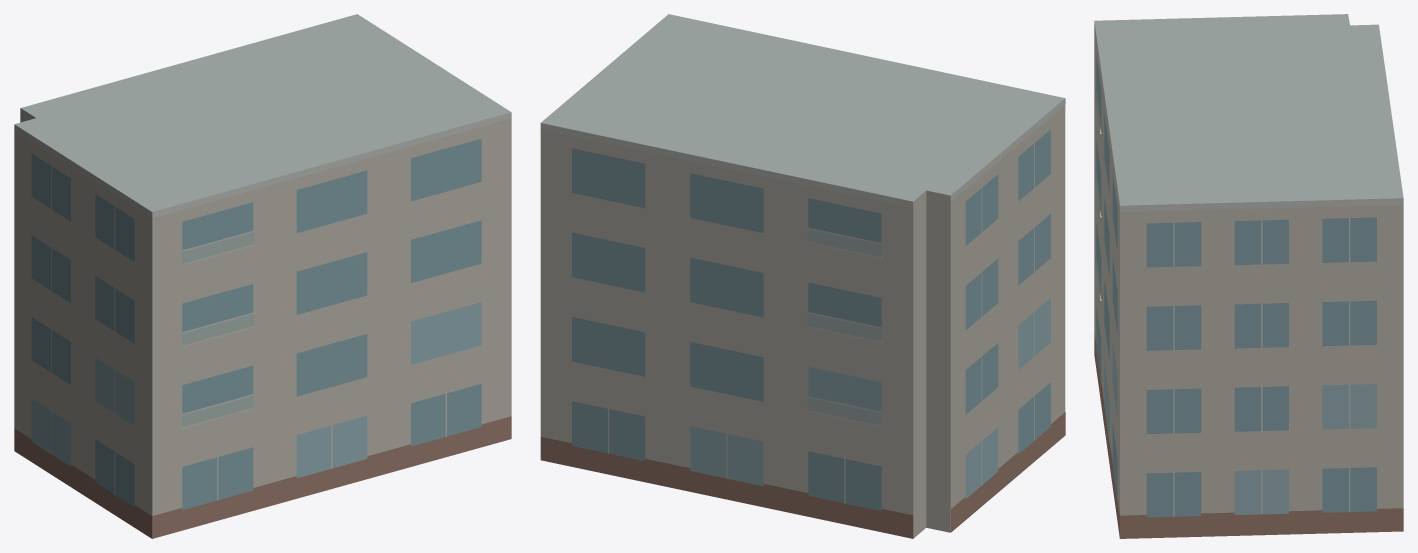
File: survey-upis-32746551.glb
3 views of the same model, side by side, from view 1: azimuth 30°, elevation 25°; view 2: azimuth 150°, elevation 25°; view 3: azimuth 270°, elevation 25° (orthographic). The views are drawn at different scales.
Parts seen in each view (by area): view 1: survey-upis-32746551.tmp; view 2: survey-upis-32746551.tmp; view 3: survey-upis-32746551.tmp.
Boxes of the visible parts, box(x1,y1,x2,y2) form: survey-upis-32746551.tmp: box(14, 14, 511, 538); survey-upis-32746551.tmp: box(540, 14, 1065, 538); survey-upis-32746551.tmp: box(1094, 14, 1403, 538).
Bounding box in the file's own units: 15.8 × 12.8 × 10.78.
